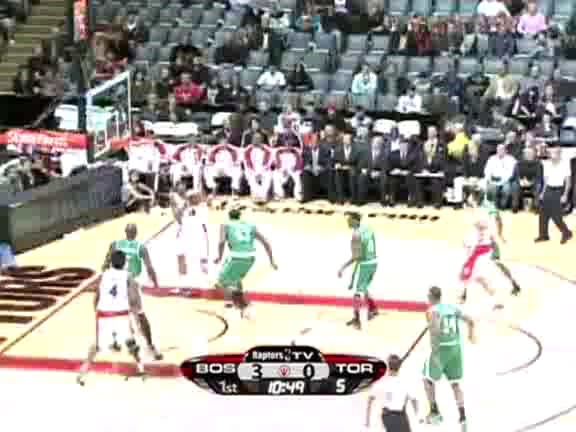person: (349, 221, 383, 302), (348, 221, 382, 302), (350, 221, 384, 302), (349, 220, 383, 301), (349, 222, 383, 303)
target_negative: (330, 81, 561, 274), (43, 167, 318, 218), (424, 300, 559, 338), (403, 396, 450, 432), (478, 252, 503, 299), (486, 386, 519, 398)
